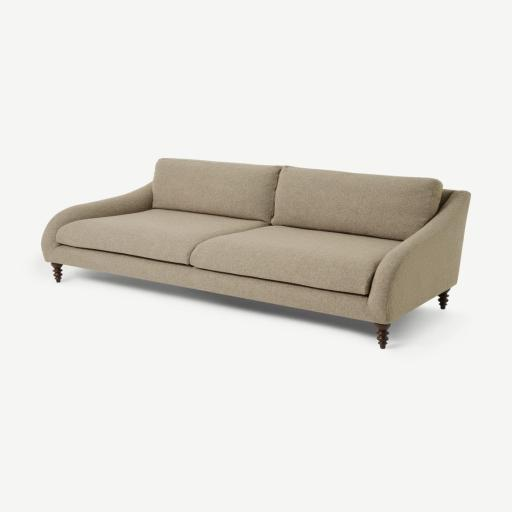back_cushion: (152, 158, 442, 240)
base: (56, 248, 374, 322)
left_arm: (368, 191, 470, 323)
legs: (374, 323, 390, 349), (439, 289, 450, 310), (51, 263, 62, 282)
right_arm: (41, 183, 152, 262)
seat_cushion: (57, 209, 398, 294)
two-seater: (0, 0, 511, 512)
